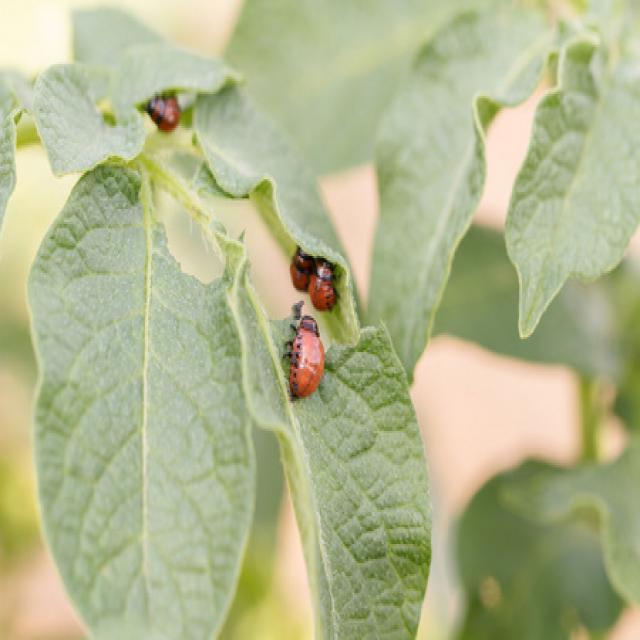ShuCaiHuaBanChong-Larva-: (280, 309, 330, 408)
